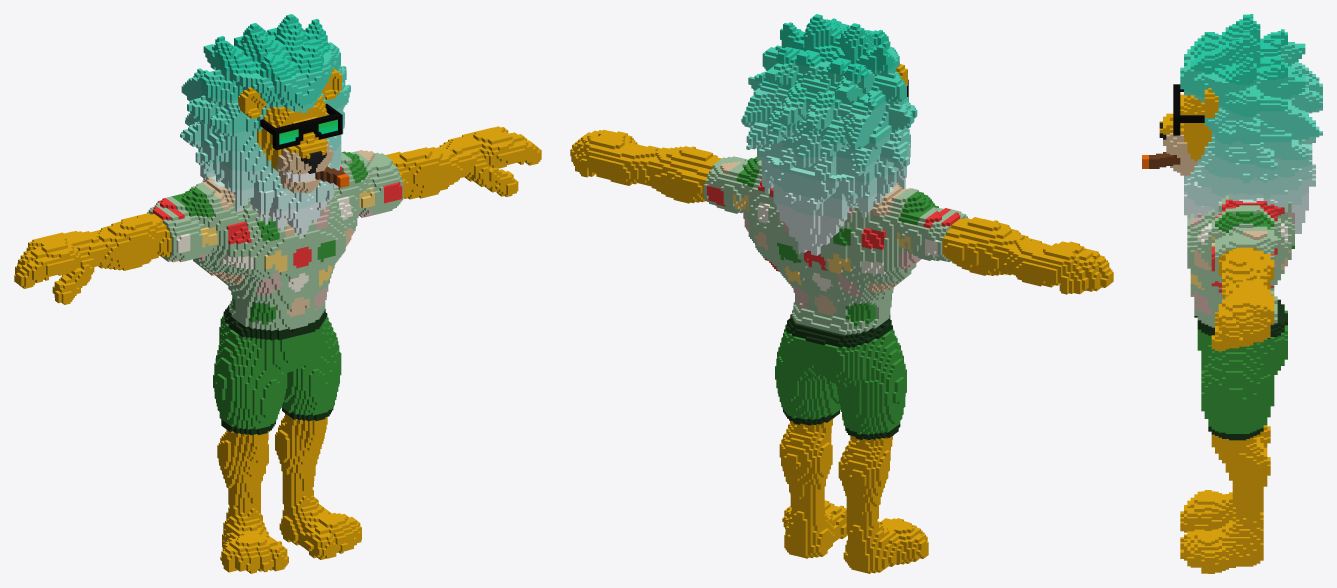
File: 1034-ClAJKuiv.glb
3 views of the same model, side by side, from view 1: azimuth 30°, elevation 25°; view 2: azimuth 150°, elevation 25°; view 3: azimuth 270°, elevation 25° (orthographic). The views are drawn at different scales.
Parts seen in each view (by area): view 1: cigar; view 2: cigar; view 3: cigar.
Part boxes in pixels (box(x1,y1,x2,y2)): cigar: box(14, 14, 541, 573); cigar: box(570, 14, 1113, 573); cigar: box(1142, 14, 1322, 573).
Size of the model in its own units: 17.2 by 16.5 by 5.2.
5 materials, 5 textured.
